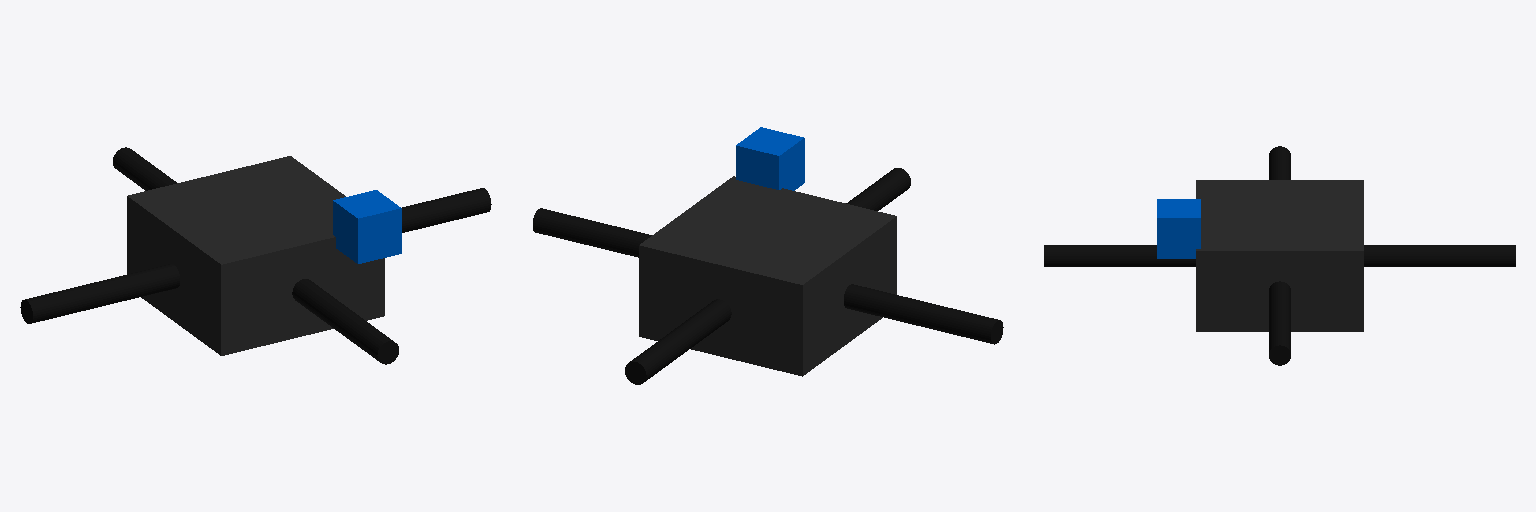
URDF robot description (evolved_unit_test_inspection):
<?xml version="1.0"?>
<robot name="evolved_unit_test_inspection">
  <!-- Base Link / Central Hub -->
  <link name="base_link">
    <inertial>
      <mass value="0.8000"/>
      <inertia ixx="0.001927" ixy="0" ixz="0" iyy="0.001927" iyz="0" izz="0.003000"/>
    </inertial>
    <visual>
      <geometry>
        <box size="0.15 0.15 0.08"/>
      </geometry>
      <material name="dark_grey"><color rgba="0.2 0.2 0.2 1.0"/></material>
    </visual>
    <collision>
      <geometry>
        <box size="0.15 0.15 0.08"/>
      </geometry>
    </collision>
  </link>
  <!-- Arm 0 -->
  <link name="arm_0">
    <inertial>
      <mass value="0.0225"/>
      <inertia ixx="0.0001" ixy="0" ixz="0" iyy="0.0001" iyz="0" izz="0002"/>
    </inertial>
    <visual>
      <geometry>
        <cylinder length="0.210" radius="0.01"/>
      </geometry>
      <material name="carbon"><color rgba="0.1 0.1 0.1 1.0"/></material>
    </visual>
  </link>
  <joint name="joint_base_arm_0" type="fixed">
    <parent link="base_link"/>
    <child link="arm_0"/>
    <origin xyz="0.1050 0.0000 0.0" rpy="0 1.5708 0.0000"/>
  </joint>
  <!-- Arm 1 -->
  <link name="arm_1">
    <inertial>
      <mass value="0.0225"/>
      <inertia ixx="0.0001" ixy="0" ixz="0" iyy="0.0001" iyz="0" izz="0002"/>
    </inertial>
    <visual>
      <geometry>
        <cylinder length="0.210" radius="0.01"/>
      </geometry>
      <material name="carbon"><color rgba="0.1 0.1 0.1 1.0"/></material>
    </visual>
  </link>
  <joint name="joint_base_arm_1" type="fixed">
    <parent link="base_link"/>
    <child link="arm_1"/>
    <origin xyz="0.0000 0.1050 0.0" rpy="0 1.5708 1.5708"/>
  </joint>
  <!-- Arm 2 -->
  <link name="arm_2">
    <inertial>
      <mass value="0.0225"/>
      <inertia ixx="0.0001" ixy="0" ixz="0" iyy="0.0001" iyz="0" izz="0002"/>
    </inertial>
    <visual>
      <geometry>
        <cylinder length="0.210" radius="0.01"/>
      </geometry>
      <material name="carbon"><color rgba="0.1 0.1 0.1 1.0"/></material>
    </visual>
  </link>
  <joint name="joint_base_arm_2" type="fixed">
    <parent link="base_link"/>
    <child link="arm_2"/>
    <origin xyz="-0.1050 0.0000 0.0" rpy="0 1.5708 3.1416"/>
  </joint>
  <!-- Arm 3 -->
  <link name="arm_3">
    <inertial>
      <mass value="0.0225"/>
      <inertia ixx="0.0001" ixy="0" ixz="0" iyy="0.0001" iyz="0" izz="0002"/>
    </inertial>
    <visual>
      <geometry>
        <cylinder length="0.210" radius="0.01"/>
      </geometry>
      <material name="carbon"><color rgba="0.1 0.1 0.1 1.0"/></material>
    </visual>
  </link>
  <joint name="joint_base_arm_3" type="fixed">
    <parent link="base_link"/>
    <child link="arm_3"/>
    <origin xyz="-0.0000 -0.1050 0.0" rpy="0 1.5708 4.7124"/>
  </joint>
  <!-- Sensor: sensor_0_s_depth_cam -->
  <link name="sensor_0_s_depth_cam">
    <inertial>
      <mass value="0.0600"/>
      <inertia ixx="0.00005" ixy="0" ixz="0" iyy="0.00005" iyz="0" izz="0.00005"/>
    </inertial>
    <visual>
      <geometry>
        <box size="0.04 0.04 0.04"/>
      </geometry>
      <material name="blue"><color rgba="0.0 0.4 0.8 1.0"/></material>
    </visual>
  </link>
  <joint name="joint_base_sensor_0_s_depth_cam" type="fixed">
    <parent link="base_link"/>
    <child link="sensor_0_s_depth_cam"/>
    <origin xyz="0.0500 -0.0900 0.0500" rpy="0 0 0"/>
  </joint>
</robot>

--- Facts derived from the render (not from the file) ---
The picture shows the robot from 3 angles, left to right: view 1: azimuth 30°, elevation 25°; view 2: azimuth 150°, elevation 25°; view 3: azimuth 270°, elevation 25°; orthographic projection.
Model evolved_unit_test_inspection with 6 links and 5 joints (5 fixed), rooted at base_link, posed every joint at zero.
Links seen in each view (by area): view 1: base_link, sensor_0_s_depth_cam, arm_2, arm_3, arm_0, arm_1; view 2: base_link, arm_2, sensor_0_s_depth_cam, arm_1, arm_0, arm_3; view 3: base_link, arm_1, arm_3, sensor_0_s_depth_cam, arm_0, arm_2.
Boxes of the visible links, x1=… form: base_link: x1=127, y1=156, x2=384, y2=355; sensor_0_s_depth_cam: x1=333, y1=190, x2=401, y2=263; arm_2: x1=20, y1=264, x2=179, y2=323; arm_3: x1=292, y1=279, x2=398, y2=364; arm_0: x1=402, y1=188, x2=491, y2=232; arm_1: x1=113, y1=147, x2=176, y2=190; base_link: x1=639, y1=176, x2=896, y2=376; arm_2: x1=844, y1=284, x2=1003, y2=344; sensor_0_s_depth_cam: x1=736, y1=127, x2=804, y2=190; arm_1: x1=625, y1=299, x2=731, y2=384; arm_0: x1=533, y1=208, x2=651, y2=257; arm_3: x1=846, y1=168, x2=910, y2=210; base_link: x1=1196, y1=180, x2=1363, y2=331; arm_1: x1=1364, y1=245, x2=1515, y2=266; arm_3: x1=1044, y1=245, x2=1195, y2=266; sensor_0_s_depth_cam: x1=1157, y1=199, x2=1200, y2=258; arm_0: x1=1269, y1=281, x2=1290, y2=365; arm_2: x1=1269, y1=146, x2=1290, y2=179.
Bounding box of the posed robot: 0.42 × 0.42 × 0.11 m (x, y, z).
Geometry: primitives only (box / cylinder / sphere), no mesh files.
